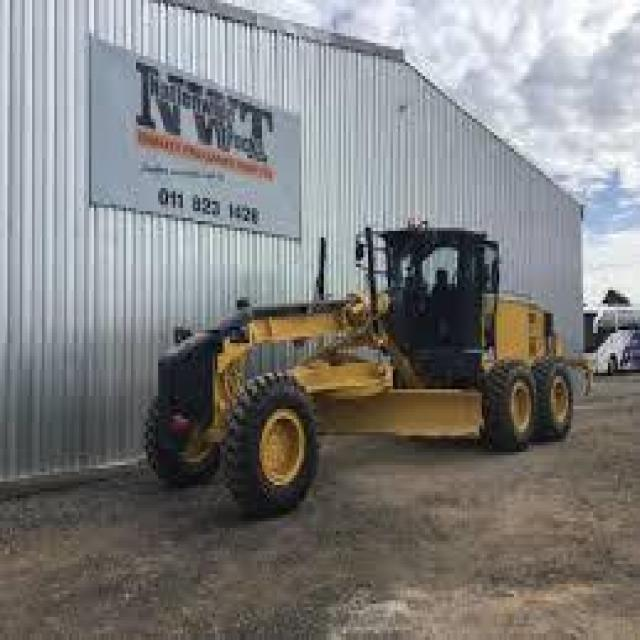Grader: (136, 208, 590, 511)
